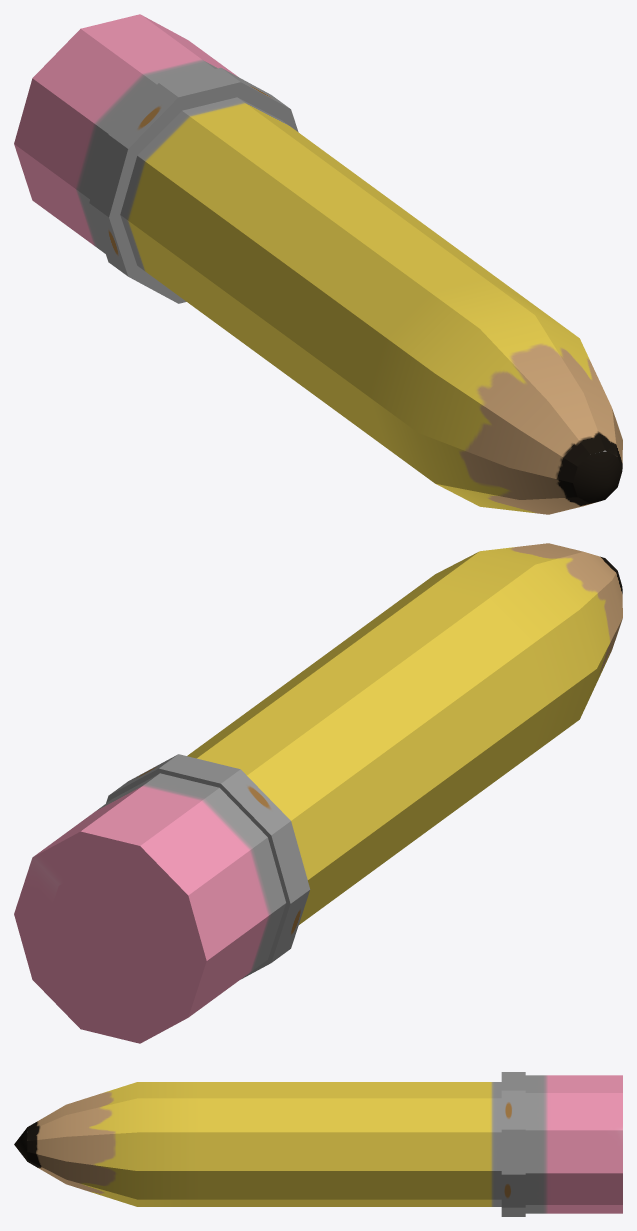
Rendered from pencil.fbx.
3 renders of one model, top to bottom at view 1: azimuth 30°, elevation 25°; view 2: azimuth 150°, elevation 25°; view 3: azimuth 270°, elevation 25°, orthographic. The views are drawn at different scales.
Visible parts, largest first — view 1: pCylinder1; view 2: pCylinder1; view 3: pCylinder1.
Boxes of the visible parts, left/top/right/bottom form: pCylinder1: left=14, top=14, right=622, bottom=514; pCylinder1: left=14, top=543, right=622, bottom=1043; pCylinder1: left=14, top=1072, right=622, bottom=1216.
Bounding box in the file's own units: 2.25 × 2.21 × 9.65.
1 material, 1 textured.
